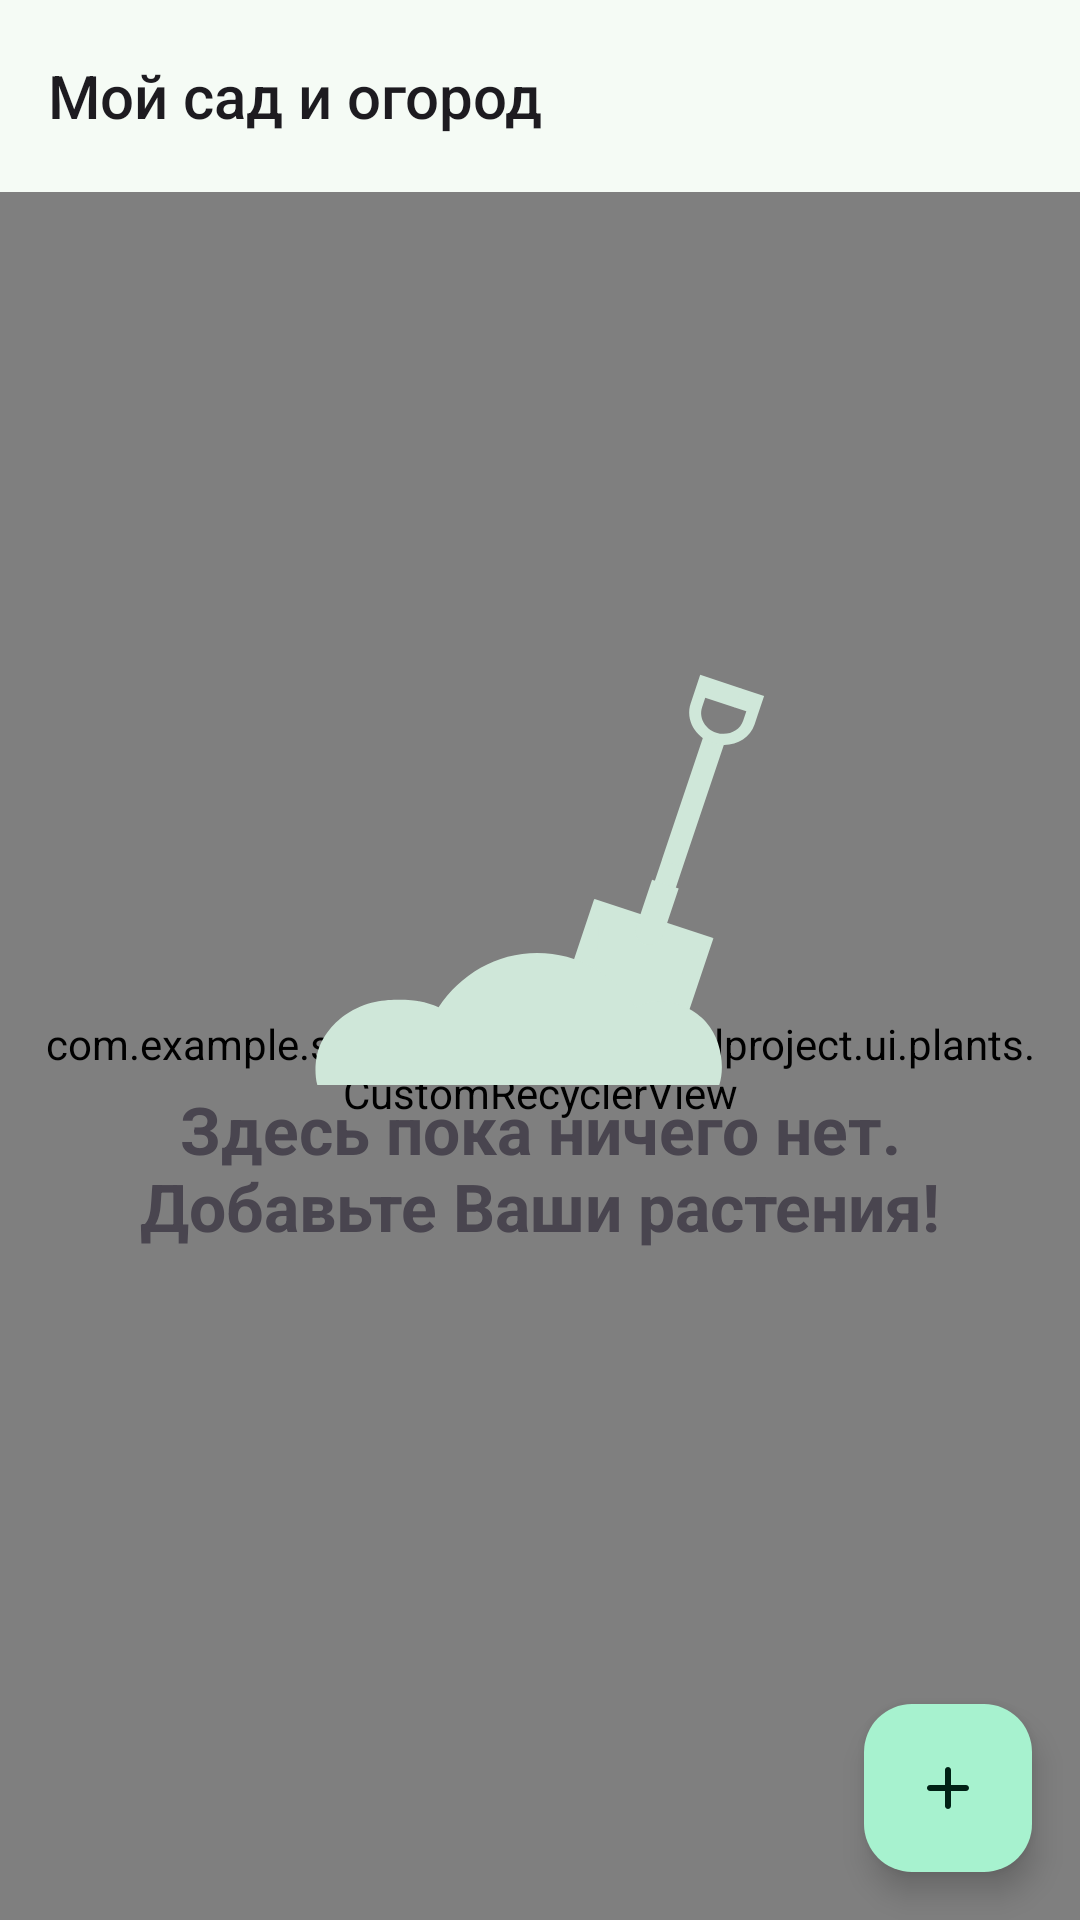

Screen size 1080w x 1920h. Icon name, then its box in pixels as (x1, y1, x2, y2):
Добавить растение: (864, 1704, 1032, 1872)
